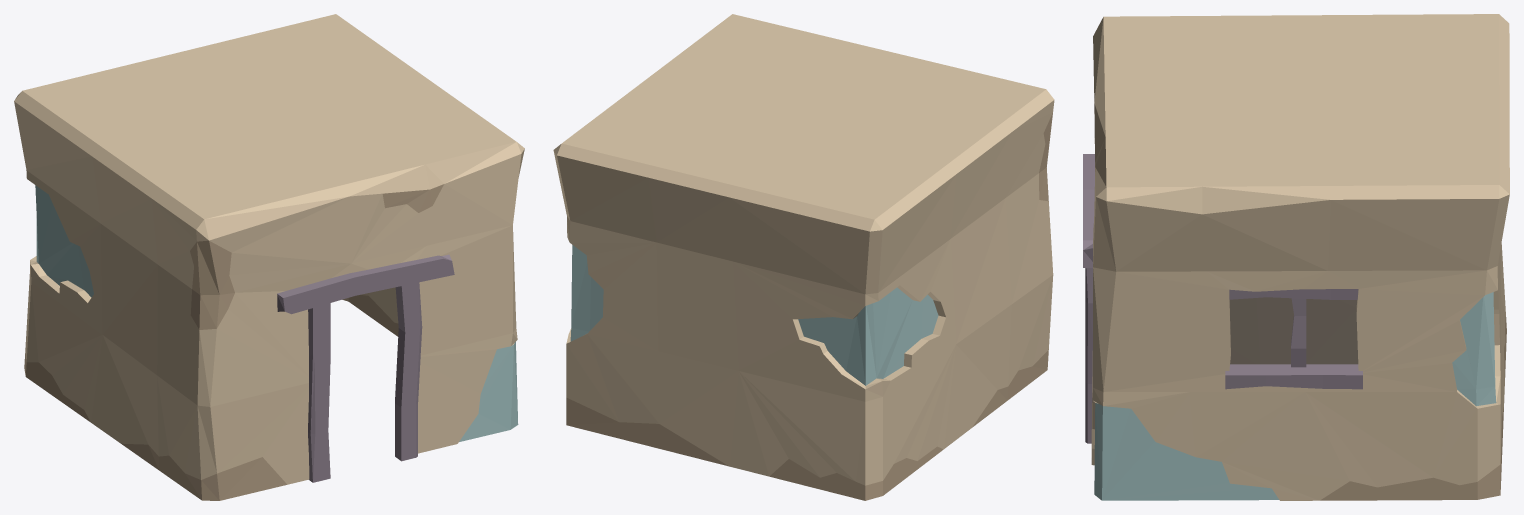
File: SM_Bld_Village_01.fbx
3 views of the same model, side by side, from view 1: azimuth 30°, elevation 25°; view 2: azimuth 150°, elevation 25°; view 3: azimuth 270°, elevation 25° (orthographic). The views are drawn at different scales.
Visible parts, largest first — view 1: SM_Bld_Village_01; view 2: SM_Bld_Village_01; view 3: SM_Bld_Village_01.
Boxes of the visible parts, x1,y1,x2,y2 form: SM_Bld_Village_01: (14,14,524,500); SM_Bld_Village_01: (553,14,1054,500); SM_Bld_Village_01: (1083,14,1509,500).
Size of the model in its own units: 0.0409 by 0.0329 by 0.0405.
1 material, 1 textured.
